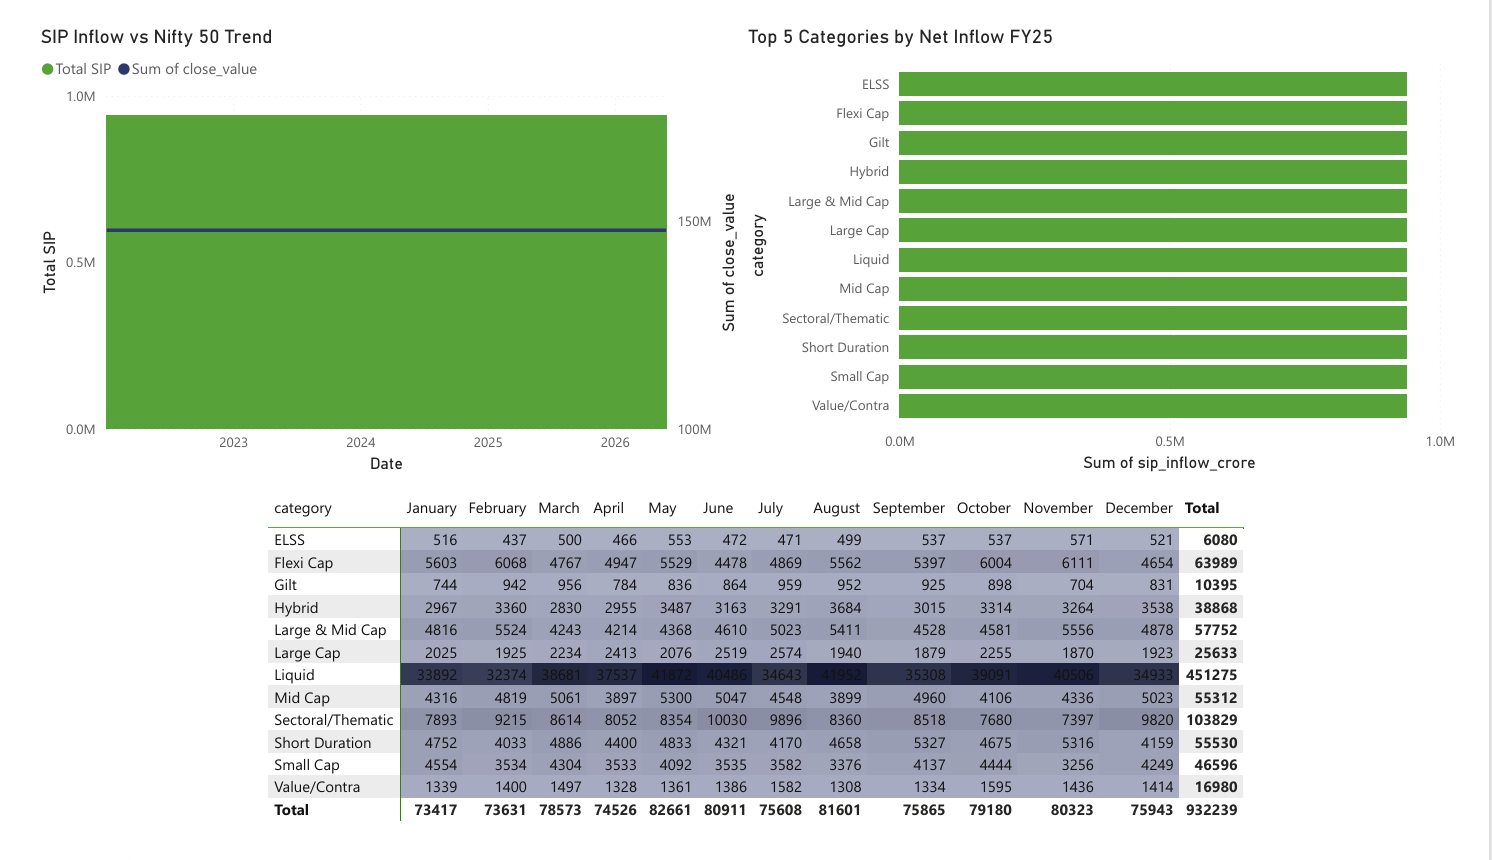

The dashboard page shown, as its layout file describes it:
{"tool":"powerbi","page":{"name":"SIP & Market Trends","canvas":[1280,720],"ordinal":3},"visuals":[{"type":"lineStackedColumnComboChart","title":"SIP Inflow vs Nifty 50 Trend","fields":{"Category":["DateTable.Date"],"Y":["04_monthly_sip_inflows.Total SIP"],"Y2":["Sum(10_benchmark_indices.close_value)"]},"box":[10,0,630,402.9],"z":0},{"type":"pivotTable","fields":{"Rows":["05_category_inflows.category"],"Columns":["05_category_inflows.month.Variation.Date Hierarchy.Month"],"Values":["Sum(05_category_inflows.net_inflow_crore)"]},"box":[212.9,414.3,881.4,305.7],"z":1000},{"type":"barChart","title":"Top 5 Categories by Net Inflow FY25","fields":{"Category":["05_category_inflows.category"],"Y":["Sum(04_monthly_sip_inflows.sip_inflow_crore)"]},"box":[640,0,640,402.9],"z":2000}]}

Visuals, with their boxes in screenshot pixels (x1, y1, x2, y2), scaled from the page's 1280x720 canvas onto the 1492x860 screenshot:
"SIP Inflow vs Nifty 50 Trend" lineStackedColumnComboChart: 12:0:746:481
pivotTable - 05_category_inflows.category x 05_category_inflows.month.Variation.Date Hierarchy.Month: 248:495:1276:859
"Top 5 Categories by Net Inflow FY25" barChart: 746:0:1491:481
